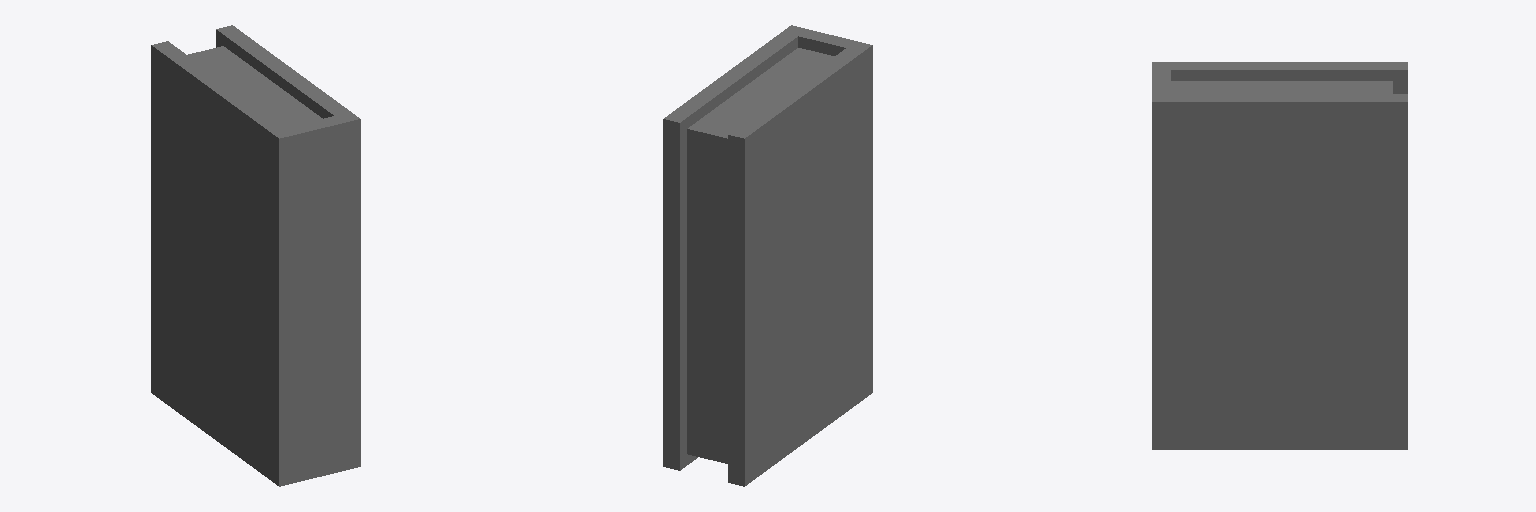
File: prop_libroMediano.obj
3 renders of one model, left to right at view 1: azimuth 30°, elevation 25°; view 2: azimuth 150°, elevation 25°; view 3: azimuth 270°, elevation 25°, orthographic.
Parts seen in each view (by area): view 1: libroMediano; view 2: libroMediano; view 3: libroMediano.
Part boxes in pixels (x1,y1,x2,y2): libroMediano: (151,25,360,486); libroMediano: (663,25,872,486); libroMediano: (1152,62,1407,449).
Size of the model in its own units: 0.0955 by 0.39 by 0.26.